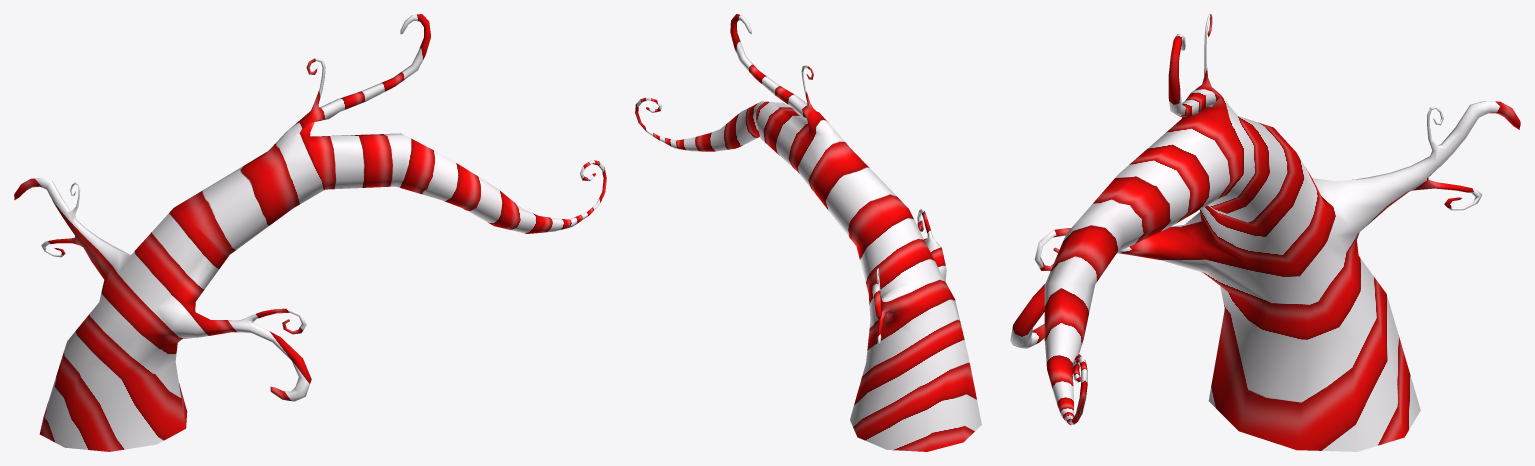
The model's file is CandyCaneTree.obj.
3 views of the same model, side by side, from view 1: azimuth 30°, elevation 25°; view 2: azimuth 150°, elevation 25°; view 3: azimuth 270°, elevation 25° (orthographic). The views are drawn at different scales.
Visible parts, largest first — view 1: mesh; view 2: mesh; view 3: mesh.
Part boxes in pixels (x1,y1,x2,y2): mesh: (14,14,606,451); mesh: (635,14,981,451); mesh: (1010,14,1520,451).
Bounding box in the file's own units: 14.19 × 11 × 9.18.
Materials: 1 (1 with a texture image).
